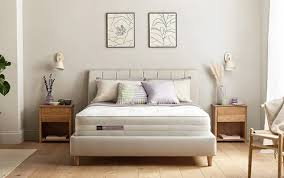bed-matress: (72, 98, 212, 137)
